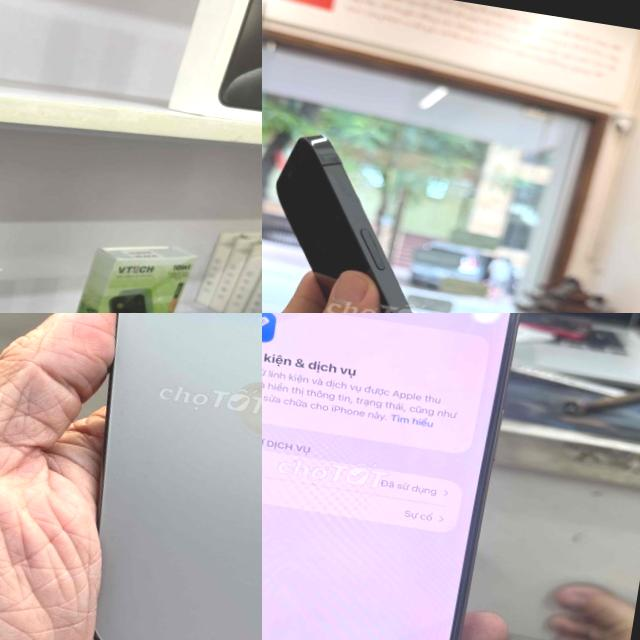gen_12_13: (262, 118, 543, 313)
gen_15: (31, 313, 262, 640)
gen_16: (262, 313, 518, 640)
